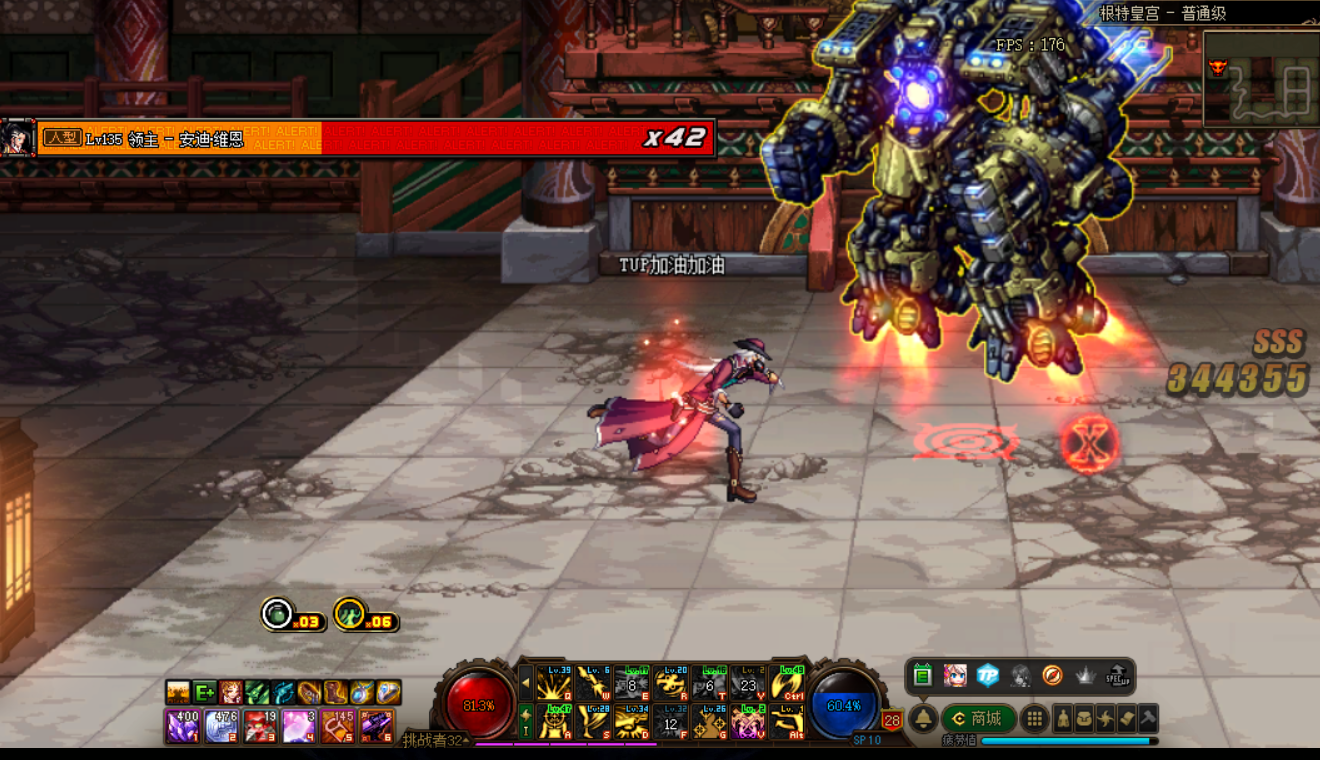boss: (771, 10, 1145, 380)
warrior: (587, 340, 780, 508)
